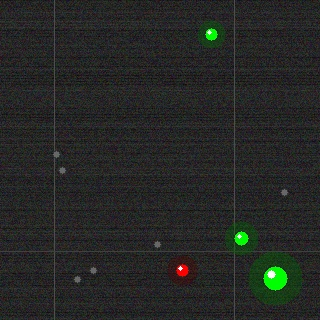green_normal: (261, 264, 289, 292), (232, 229, 250, 247), (203, 26, 219, 42)
red_fault: (174, 262, 190, 278)
